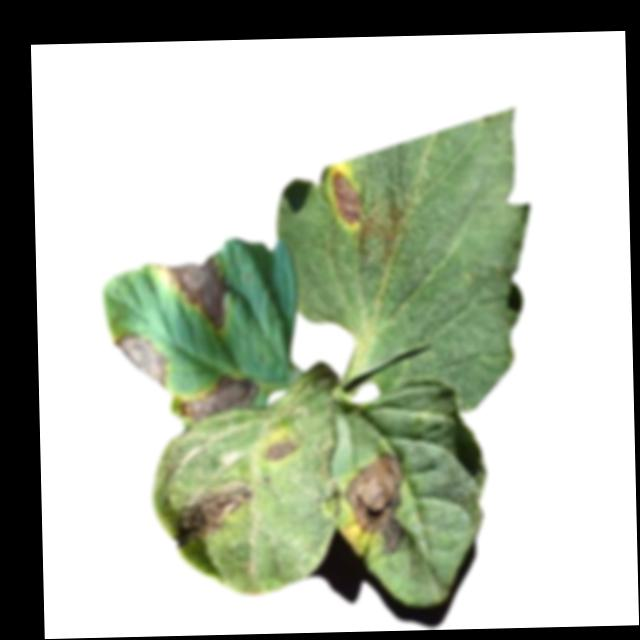Early_blight: (342, 448, 410, 554), (172, 478, 254, 545), (160, 251, 230, 329), (176, 369, 260, 420), (111, 329, 169, 390), (328, 167, 363, 229), (266, 432, 298, 463)
